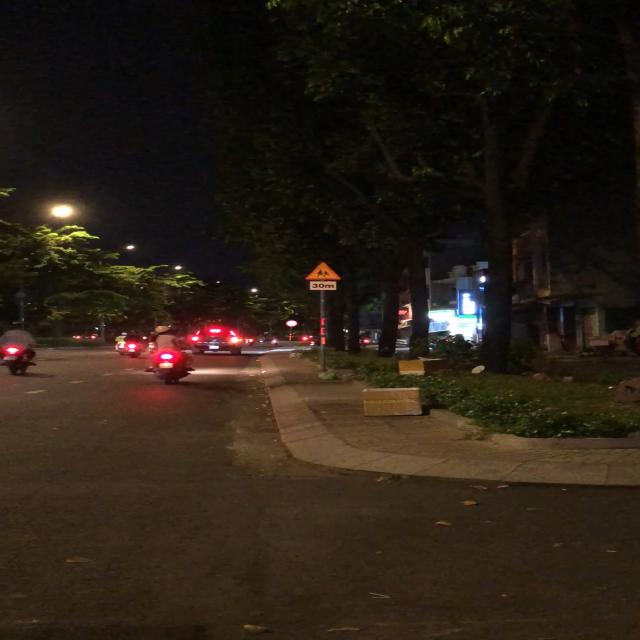Bien bao tre em: (304, 261, 345, 281)
